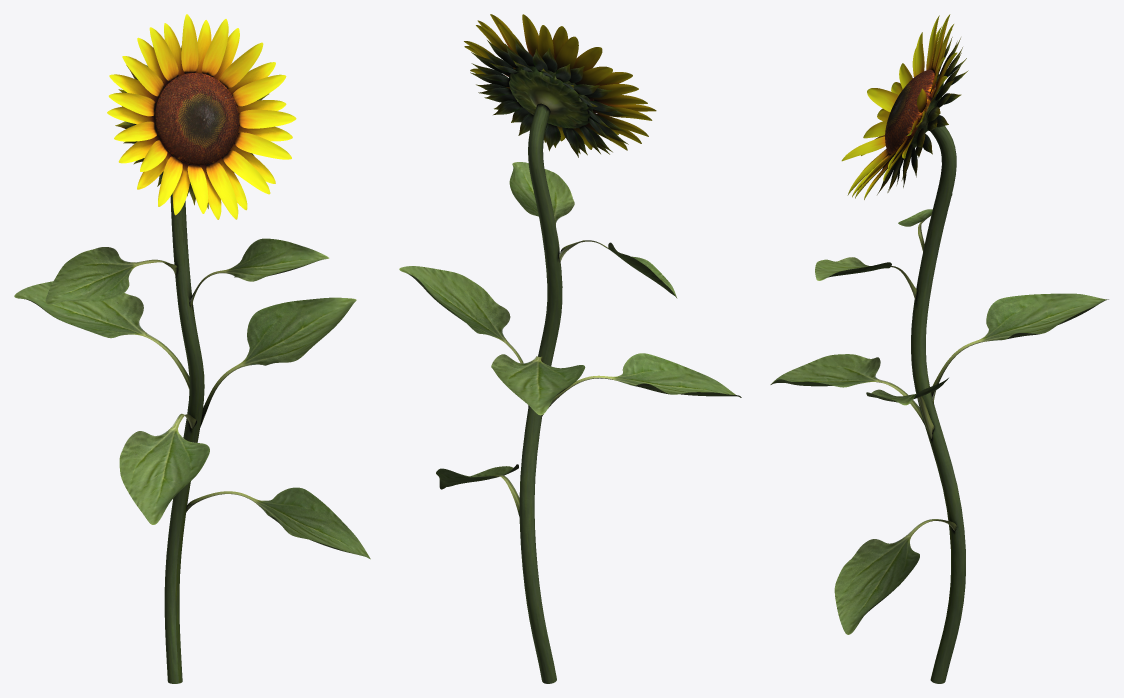
Rendered from sunflower.fbx.
The picture shows the model from 3 angles, left to right: view 1: azimuth 30°, elevation 25°; view 2: azimuth 150°, elevation 25°; view 3: azimuth 270°, elevation 25°; orthographic projection.
Parts seen in each view (by area): view 1: 10455_Sunflower_v1_max2010_it2; view 2: 10455_Sunflower_v1_max2010_it2; view 3: 10455_Sunflower_v1_max2010_it2.
Boxes of the visible parts, <box> form: 10455_Sunflower_v1_max2010_it2: <box>14,14,370,683</box>; 10455_Sunflower_v1_max2010_it2: <box>399,14,741,683</box>; 10455_Sunflower_v1_max2010_it2: <box>770,14,1108,683</box>.
Size of the model in its own units: 553 by 1192 by 555.
Materials: 1 (1 with a texture image).
